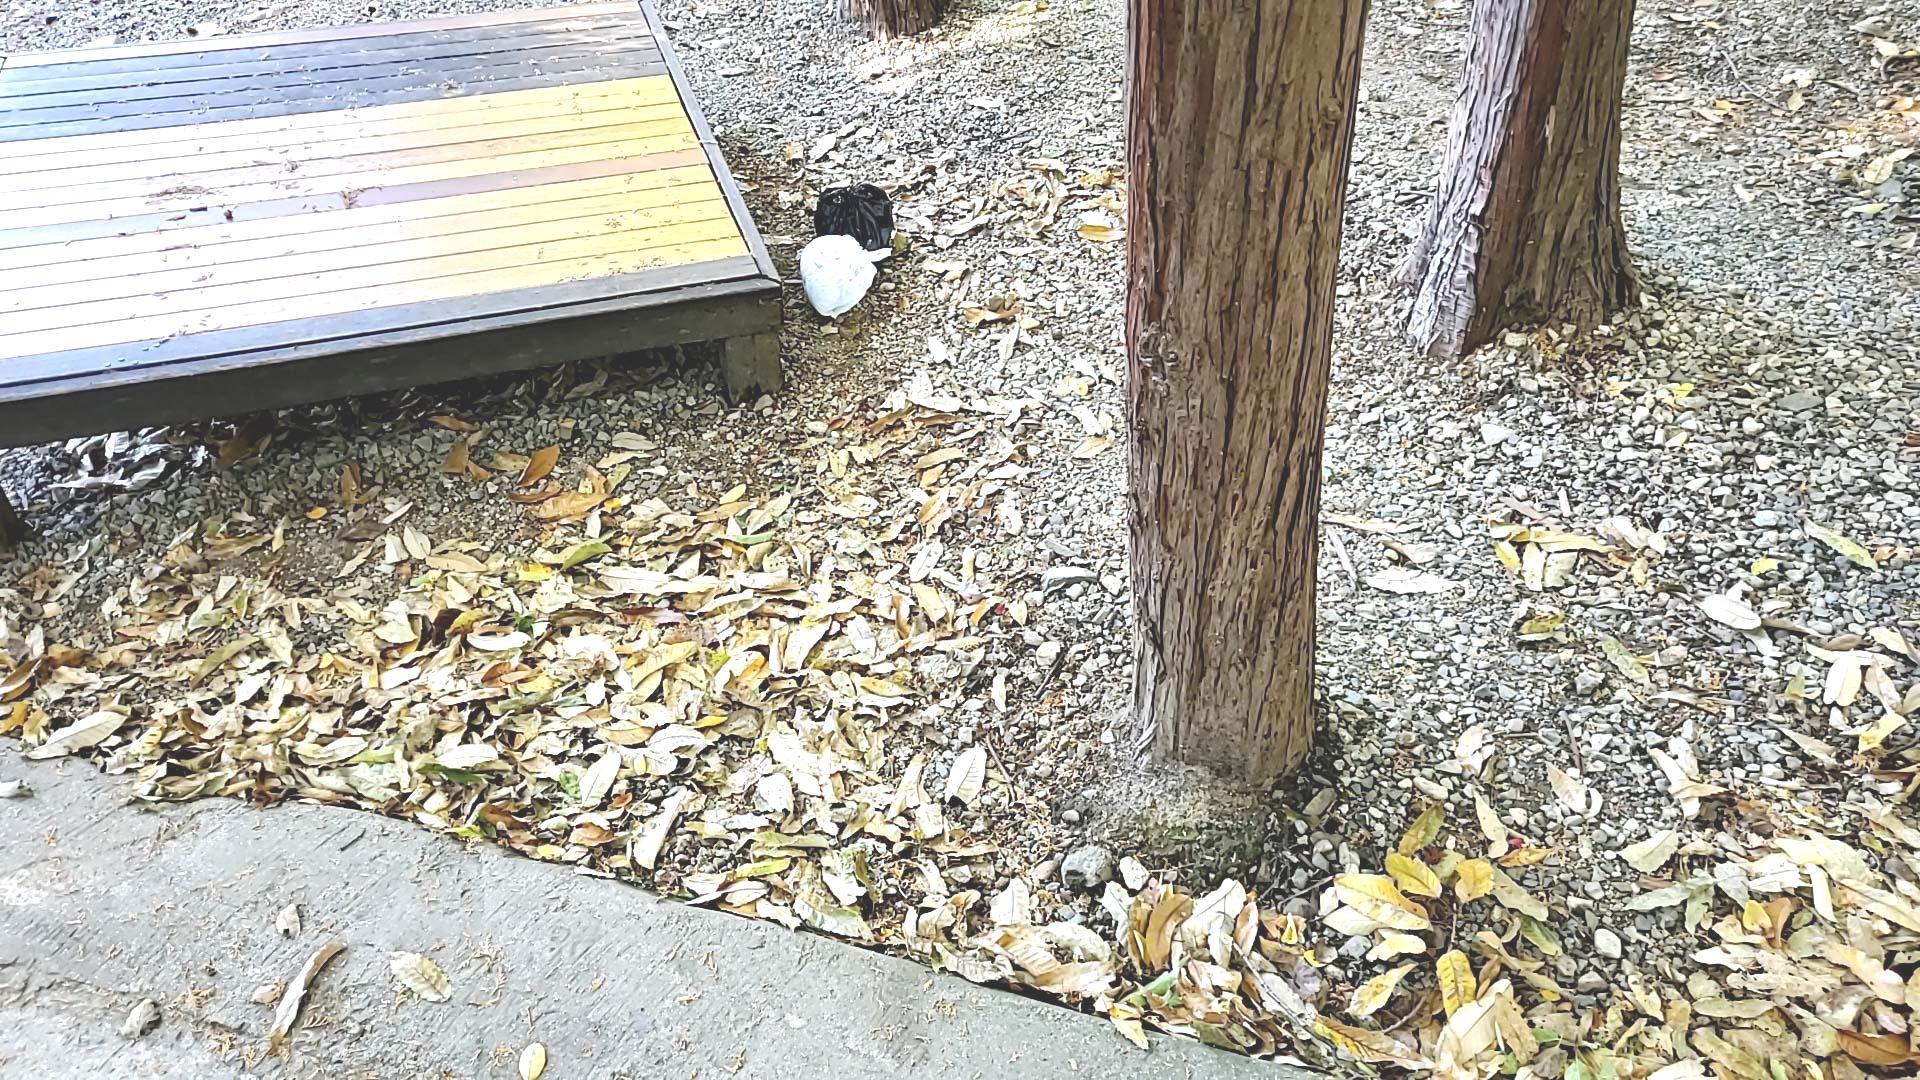black_bag: (811, 182, 894, 261)
white_bag: (794, 229, 891, 319)
